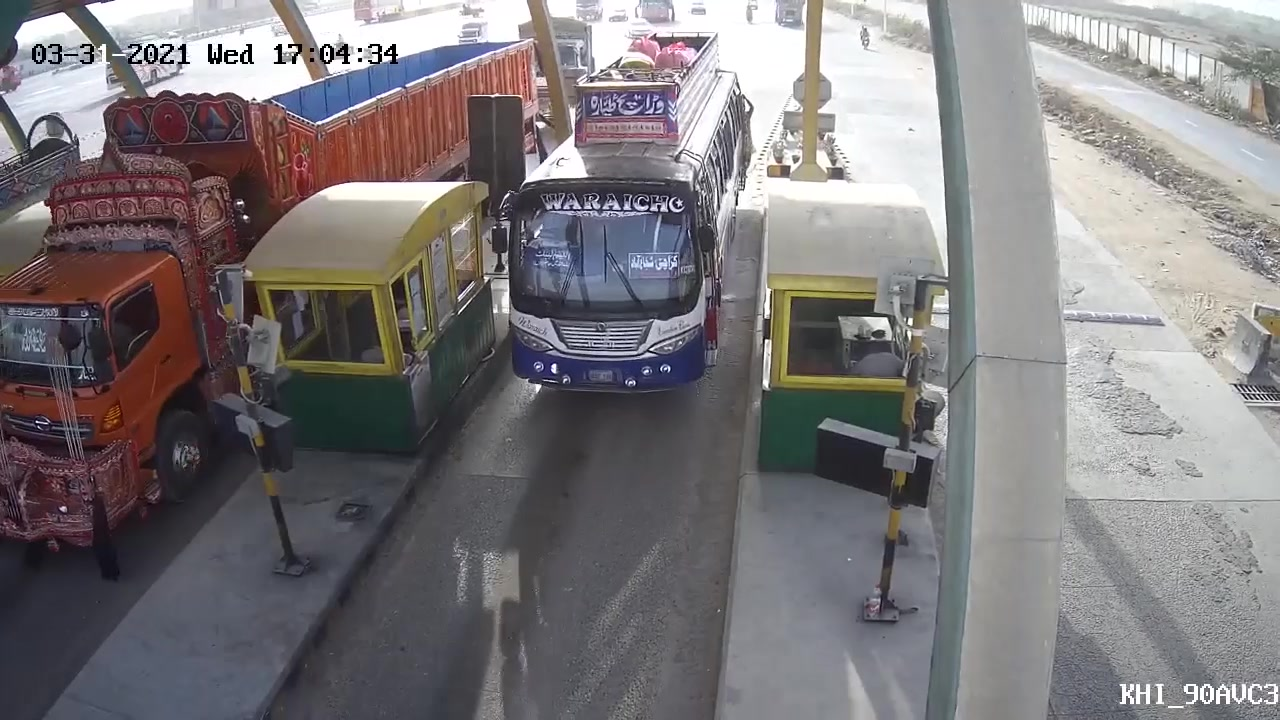F4: (490, 29, 739, 398)
